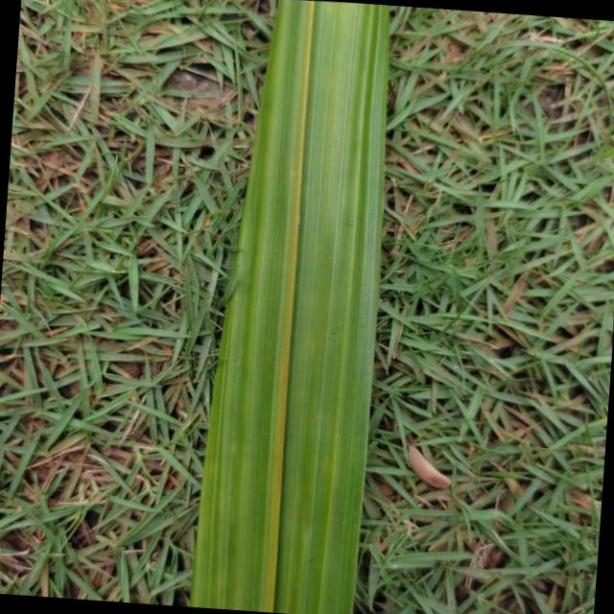nitrogen: (191, 1, 388, 614)
